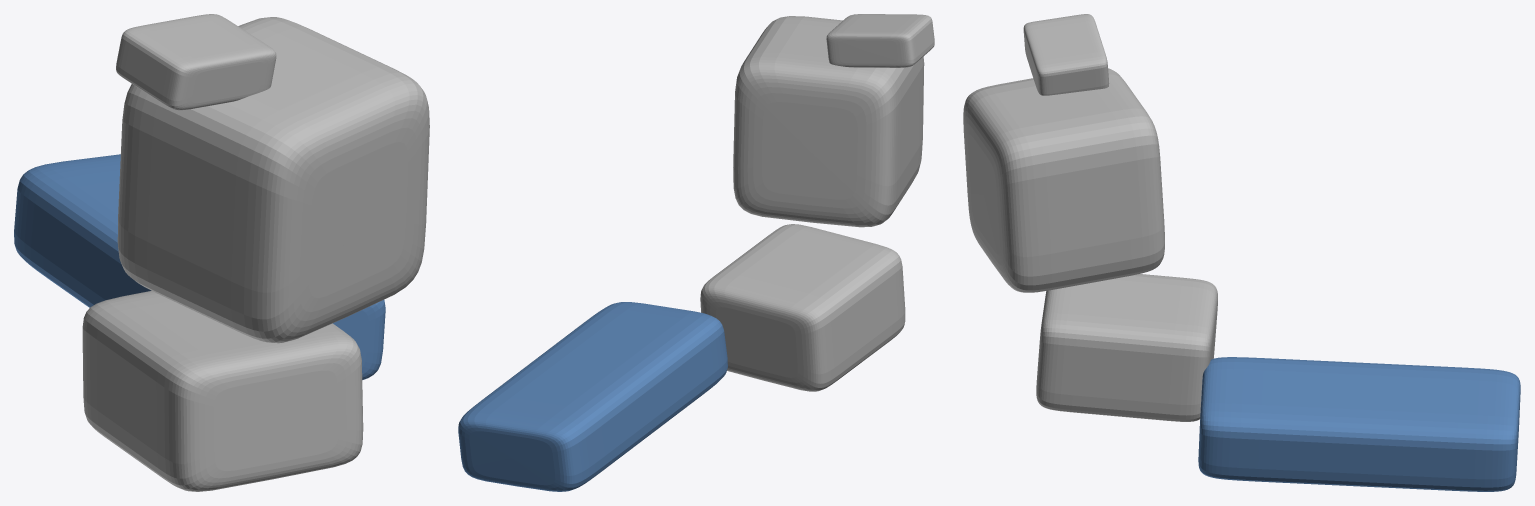
The model's file is edited_abstraction_categorized.glb.
3 views of the same model, side by side, from view 1: azimuth 30°, elevation 25°; view 2: azimuth 150°, elevation 25°; view 3: azimuth 270°, elevation 25° (orthographic). The views are drawn at different scales.
Parts seen in each view (by area): view 1: world; view 2: world; view 3: world.
Part boxes in pixels (bbox=[...]): world: bbox=[14, 14, 429, 491]; world: bbox=[458, 14, 934, 491]; world: bbox=[963, 14, 1520, 491].
Size of the model in its own units: 0.4176 by 0.5505 by 0.7701.
